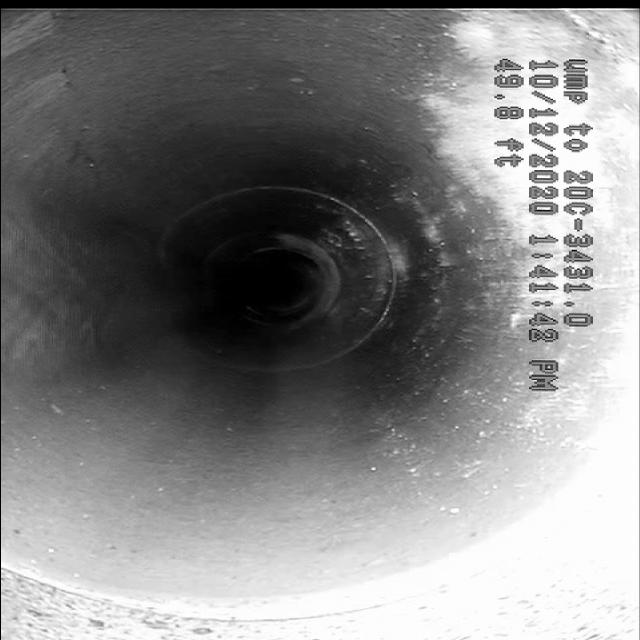Fracture: (27, 59, 133, 190)
